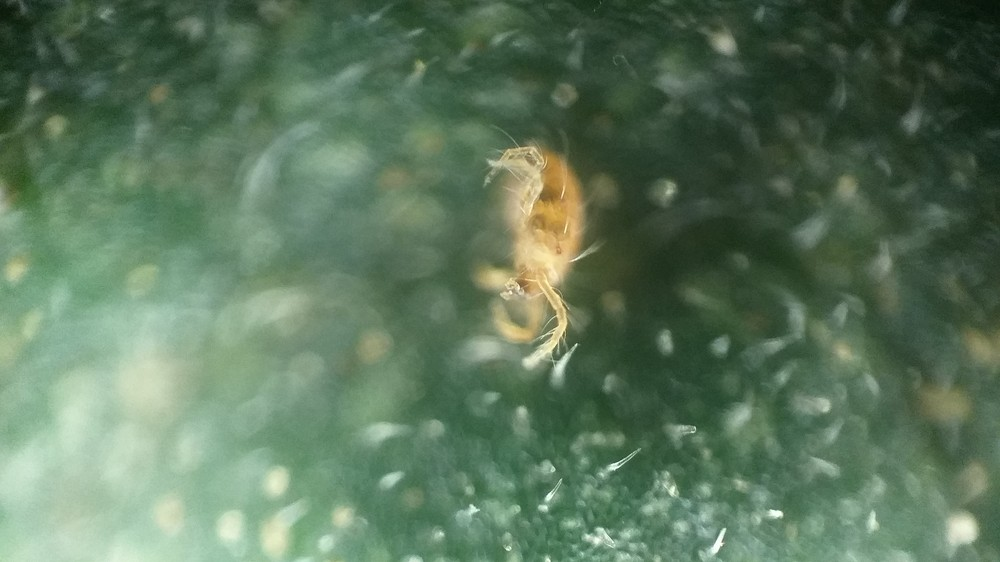Aracnido Rojo: (447, 125, 604, 389)
